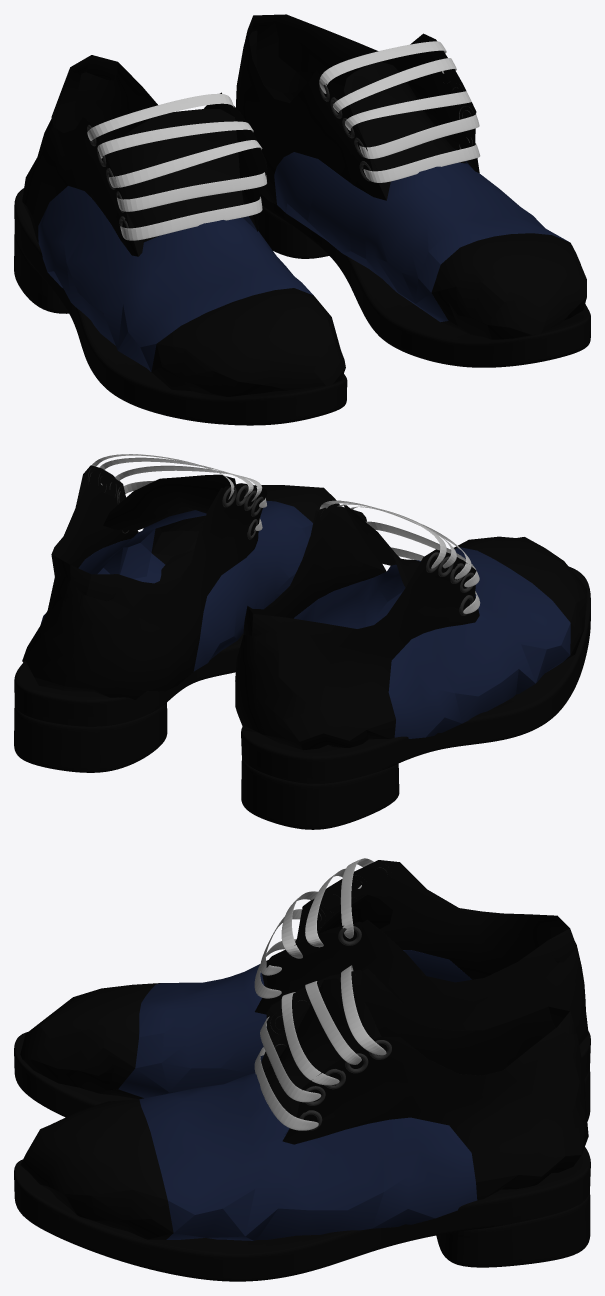
3 views of the same model, one above another, from view 1: azimuth 30°, elevation 25°; view 2: azimuth 150°, elevation 25°; view 3: azimuth 270°, elevation 25° (orthographic). The views are drawn at different scales.
Visible parts, largest first — view 1: ZAPATO1_3.001, ZAPATO1_3, Plane.011, Plane, Plane.009, Plane.006, Plane.010, Plane.008, Plane.007, Plane.002, Plane.003, Plane.004 (+2 smaller); view 2: ZAPATO1_3.001, ZAPATO1_3, Plane.011, Plane, Plane.009, Plane.001, Plane.003, Plane.007; view 3: ZAPATO1_3, ZAPATO1_3.001, Plane, Plane.011, Plane.001, Plane.004, Plane.003, Plane.005, Plane.002, Plane.007, Plane.008, Plane.010.
Part boxes in pixels (x1=…): ZAPATO1_3.001: x1=22, y1=55, x2=345, y2=396; ZAPATO1_3: x1=236, y1=14, x2=586, y2=339; Plane.011: x1=14, y1=188, x2=347, y2=425; Plane: x1=258, y1=159, x2=590, y2=367; Plane.009: x1=117, y1=172, x2=266, y2=211; Plane.006: x1=120, y1=196, x2=262, y2=240; Plane.010: x1=109, y1=140, x2=262, y2=187; Plane.008: x1=97, y1=121, x2=253, y2=158; Plane.007: x1=87, y1=93, x2=234, y2=140; Plane.002: x1=359, y1=114, x2=479, y2=158; Plane.003: x1=333, y1=58, x2=456, y2=112; Plane.004: x1=319, y1=41, x2=446, y2=93; ZAPATO1_3.001: x1=235, y1=505, x2=586, y2=750; ZAPATO1_3: x1=22, y1=465, x2=339, y2=699; Plane.011: x1=241, y1=566, x2=590, y2=829; Plane: x1=14, y1=549, x2=243, y2=772; Plane.009: x1=366, y1=521, x2=479, y2=587; Plane.001: x1=115, y1=465, x2=262, y2=501; Plane.003: x1=99, y1=457, x2=253, y2=497; Plane.007: x1=320, y1=500, x2=446, y2=568; ZAPATO1_3: x1=20, y1=968, x2=588, y2=1240; ZAPATO1_3.001: x1=20, y1=860, x2=588, y2=1099; Plane: x1=14, y1=1147, x2=590, y2=1281; Plane.011: x1=14, y1=1031, x2=590, y2=1121; Plane.001: x1=281, y1=992, x2=339, y2=1085; Plane.004: x1=340, y1=965, x2=386, y2=1055; Plane.003: x1=305, y1=981, x2=361, y2=1064; Plane.005: x1=254, y1=1047, x2=318, y2=1130; Plane.002: x1=260, y1=1016, x2=321, y2=1102; Plane.007: x1=340, y1=858, x2=373, y2=938; Plane.008: x1=305, y1=868, x2=361, y2=947; Plane.010: x1=281, y1=891, x2=317, y2=958.
Bounding box in the file's own units: 412 × 209 × 447.
